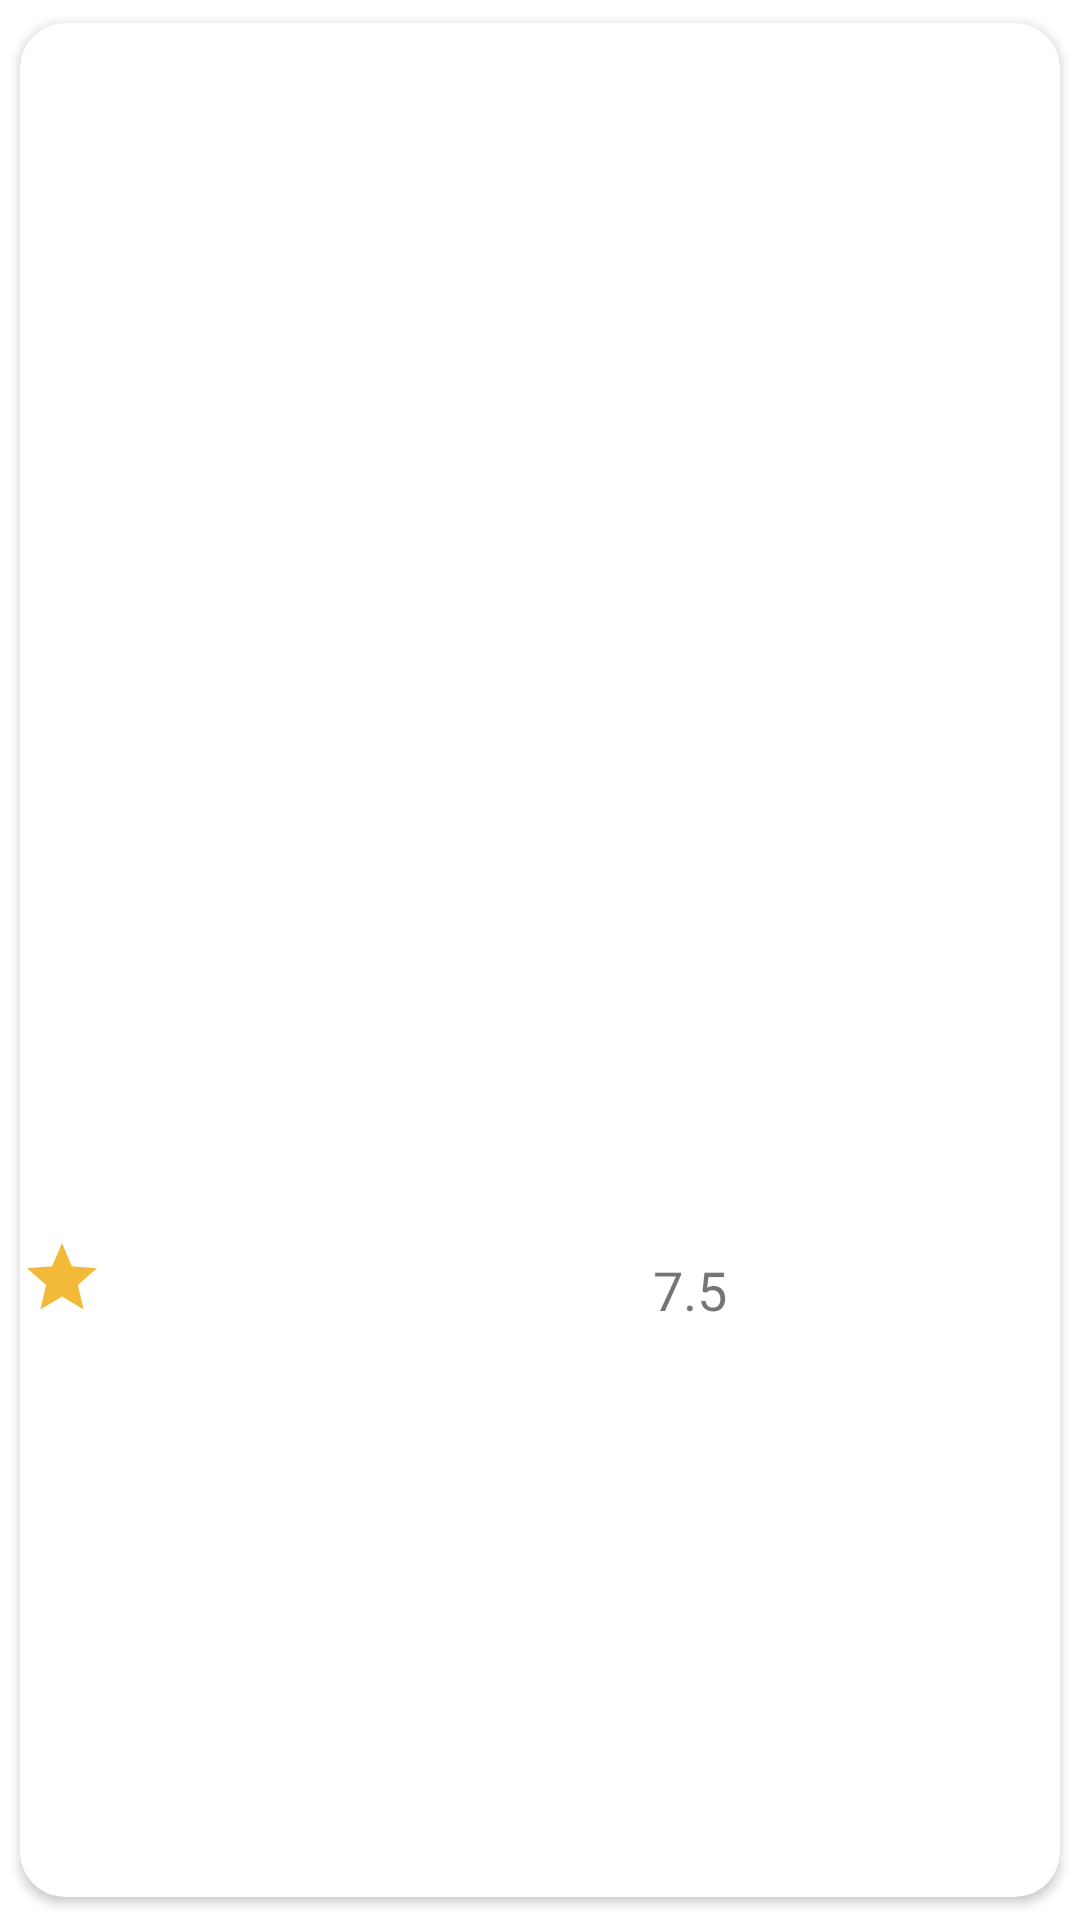

Screen size 1080px×1920px. Icon name, then its box in pixels as (x1, y1, x2, y2):
star: (27, 1243, 97, 1310)
